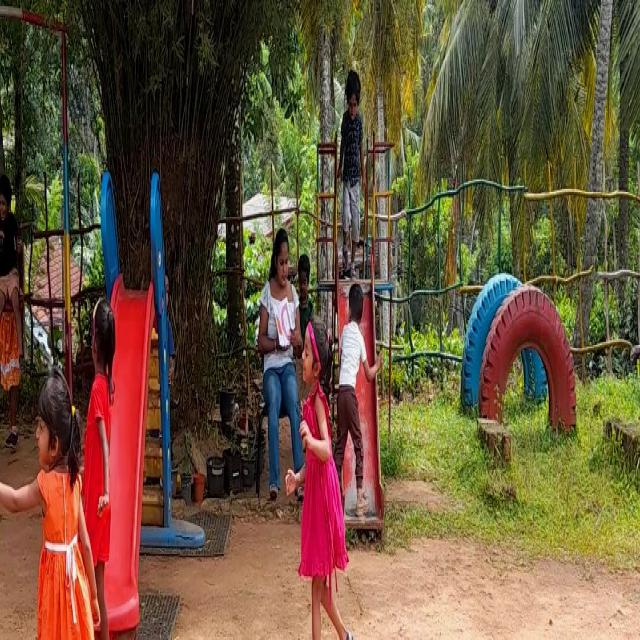adult: (256, 223, 300, 506)
child: (84, 292, 124, 640), (302, 321, 337, 640), (40, 362, 78, 640), (337, 272, 374, 528), (335, 53, 370, 273), (0, 170, 18, 365)
